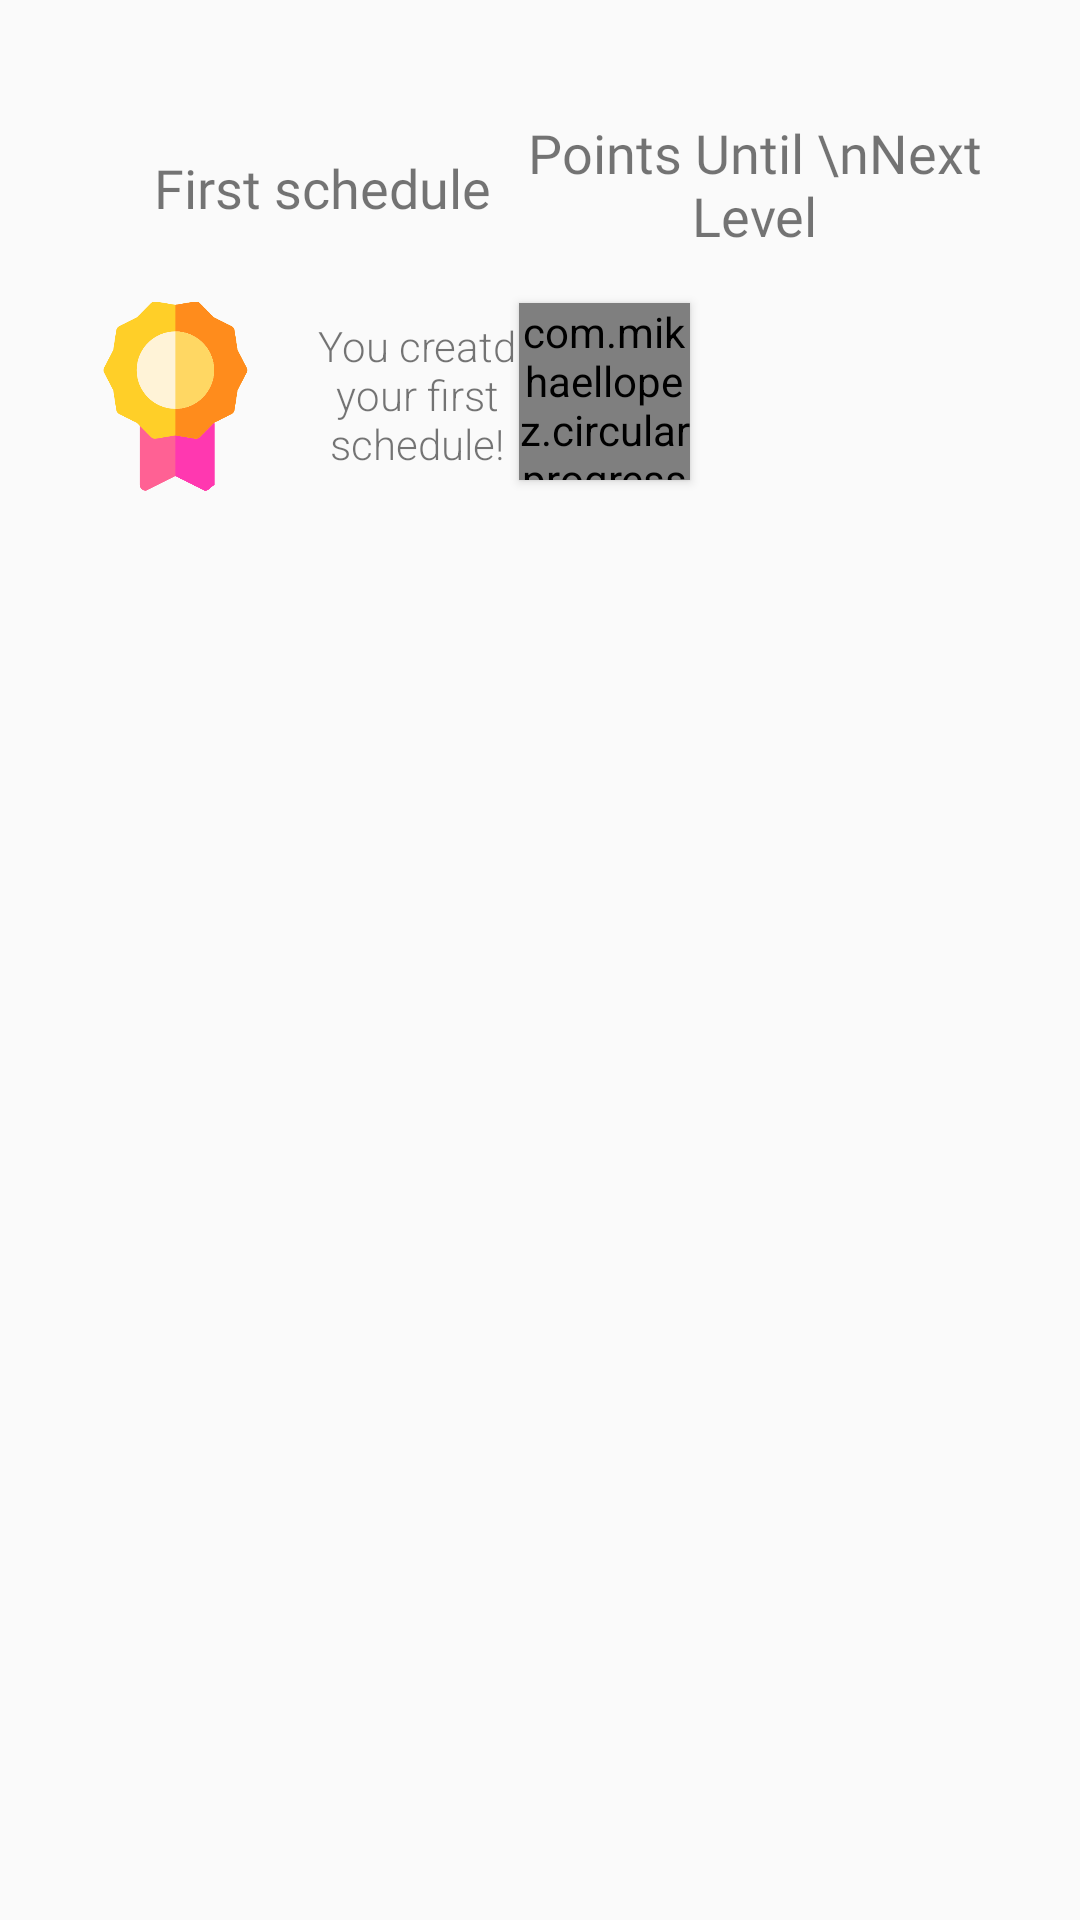

Named icons in this screenshot (1080x1920) and their centers, (x,y):
best: (175,396)
